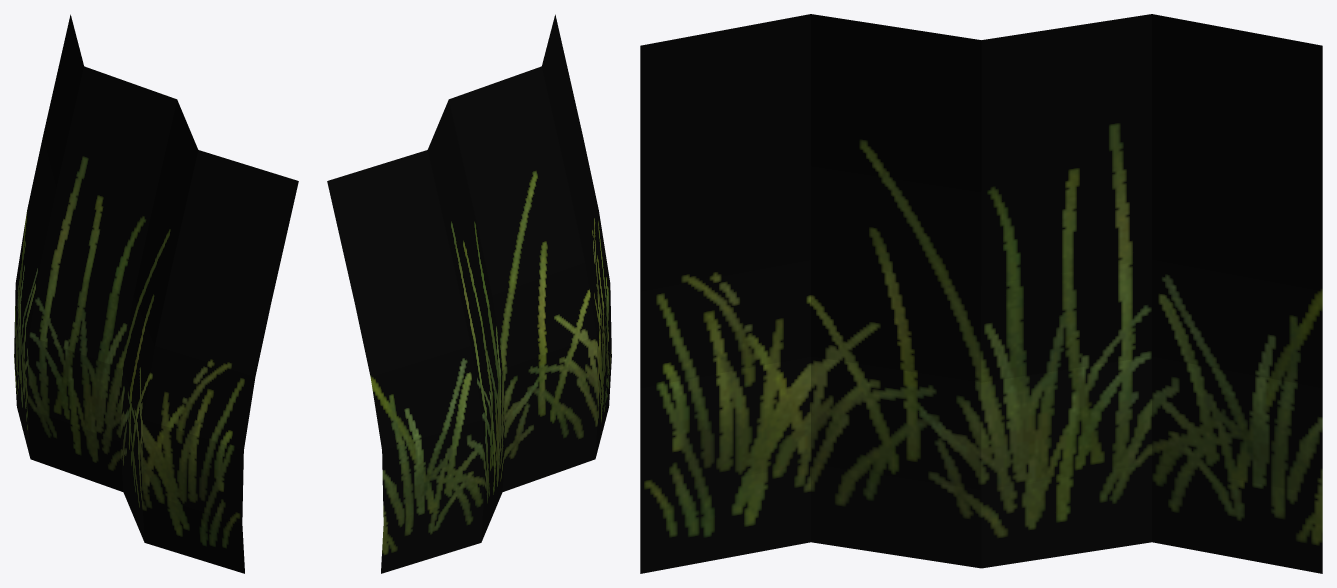
Rendered from bg_anh_foliage_te_b78_sm_old.FBX.
3 renders of one model, left to right at view 1: azimuth 30°, elevation 25°; view 2: azimuth 150°, elevation 25°; view 3: azimuth 270°, elevation 25°, orthographic. The views are drawn at different scales.
Parts seen in each view (by area): view 1: bg_anh_foliage_te_b78_sm_old; view 2: bg_anh_foliage_te_b78_sm_old; view 3: bg_anh_foliage_te_b78_sm_old.
Boxes of the visible parts, bbox=[...] form: bg_anh_foliage_te_b78_sm_old: bbox=[14, 14, 298, 573]; bg_anh_foliage_te_b78_sm_old: bbox=[327, 14, 611, 573]; bg_anh_foliage_te_b78_sm_old: bbox=[640, 14, 1322, 573].
Size of the model in its own units: 22.02 by 79.94 by 87.08.
